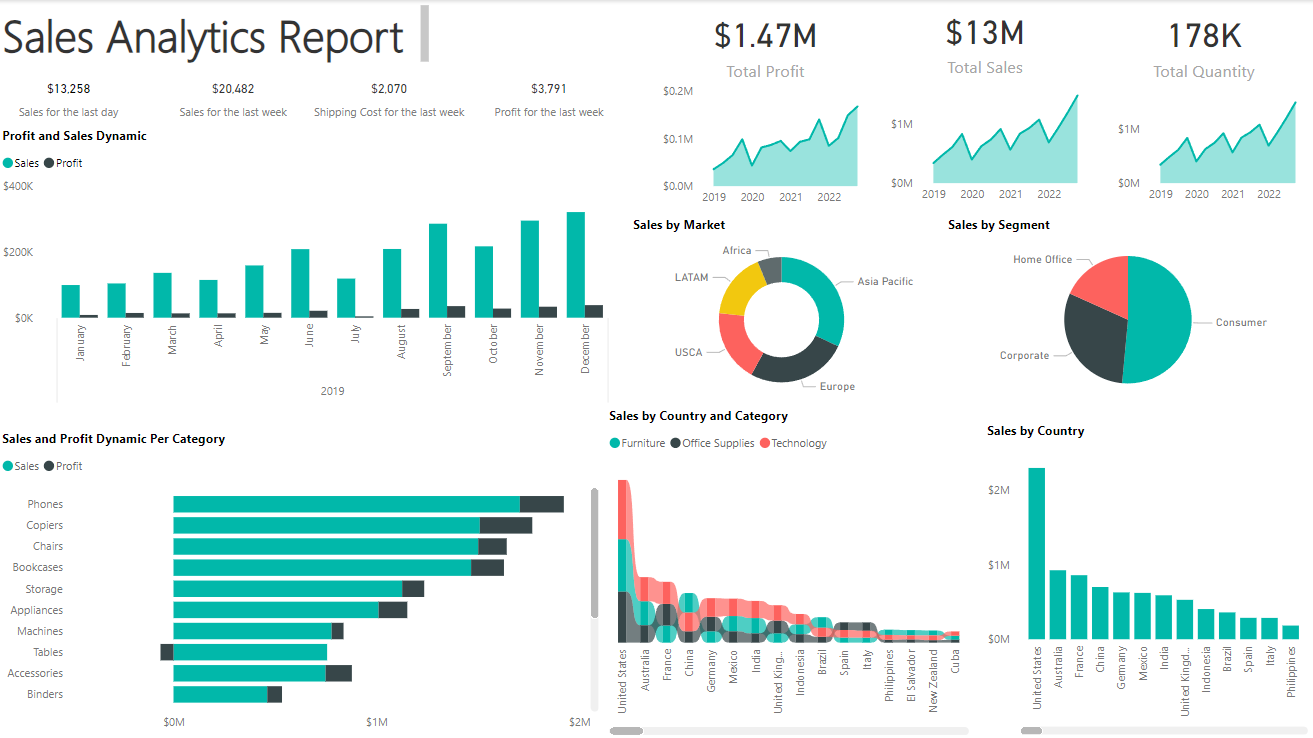

The dashboard page shown, as its layout file describes it:
{"tool":"powerbi","page":{"name":"Page 1","canvas":[1280,720],"ordinal":0},"visuals":[{"type":"clusteredColumnChart","title":"Profit and Sales Dynamic","fields":{"Y":["Sum(Orders.Sales)","Sum(Orders.Profit)"],"Category":["Orders.Order Date.Variation.Date Hierarchy.Year","Orders.Order Date.Variation.Date Hierarchy.Month"]},"box":[0,123.5,612.8,279.1],"z":0},{"type":"textbox","box":[0,0,425,66.1],"z":1000},{"type":"card","fields":{"Values":["Orders.Sales for last month"]},"box":[0,66.1,139.1,57.4],"z":2000},{"type":"card","fields":{"Values":["Orders.Sales for the last 7 days"]},"box":[156.6,66.1,145.9,57.4],"z":3000},{"type":"card","fields":{"Values":["Orders.Shipping Cost for the last week"]},"box":[302.5,66.1,157.6,57.4],"z":4000},{"type":"card","fields":{"Values":["Orders.Profit for the last week"]},"box":[460.1,66.1,153.7,57.4],"z":5000},{"type":"areaChart","title":"Sales by Year","fields":{"Category":["Orders.Order Date.Variation.Date Hierarchy.Year","Orders.Order Date.Variation.Date Hierarchy.Quarter","Orders.Order Date.Variation.Date Hierarchy.Month","Orders.Order Date.Variation.Date Hierarchy.Day"],"Y":["Sum(Orders.Sales)"]},"box":[863.7,77.8,204.3,129.4],"z":6000},{"type":"stackedAreaChart","title":"Profit by Year","fields":{"Y":["Sum(Orders.Profit)"],"Category":["Orders.Order Date.Variation.Date Hierarchy.Year","Orders.Order Date.Variation.Date Hierarchy.Quarter","Orders.Order Date.Variation.Date Hierarchy.Month","Orders.Order Date.Variation.Date Hierarchy.Day"]},"box":[641.9,74.9,212,135.2],"z":7000},{"type":"barChart","title":"Sales and Profit Dynamic Per Category","fields":{"Category":["Orders.Sub-Category"],"Y":["Sum(Orders.Sales)","Sum(Orders.Profit)"]},"box":[0,418.2,590.4,301.5],"z":8000},{"type":"ribbonChart","title":"Sales by Country and Category","fields":{"Category":["Orders.Country"],"Series":["Orders.Category"],"Y":["Sum(Orders.Sales)"]},"box":[590.4,395.9,359.9,323.9],"z":9000},{"type":"card","fields":{"Values":["Sum(Orders.Profit)"]},"box":[638.1,0,218.8,84.6],"z":10000},{"type":"card","fields":{"Values":["Sum(Orders.Sales)"]},"box":[854,0,214,77.8],"z":11000},{"type":"columnChart","title":"Sales by Country","fields":{"Y":["Sum(Orders.Sales)"],"Category":["Orders.Country"]},"box":[958.1,410.5,321.9,309.3],"z":12000},{"type":"pieChart","title":"Sales by Segment","fields":{"Y":["Sum(Orders.Sales)"],"Category":["Orders.Segment"]},"box":[920.1,210.1,359.9,185.8],"z":13000},{"type":"card","title":"Sales by Market","fields":{"Values":["Sum(Orders.Quantity)"]},"box":[1068,0,212,84.6],"z":14000},{"type":"donutChart","title":"Sales by Market","fields":{"Y":["Sum(Orders.Sales)"],"Category":["Orders.Market"]},"box":[613.7,210.1,298.6,185.8],"z":15000},{"type":"stackedAreaChart","fields":{"Y":["Sum(Orders.Sales)"],"Category":["Orders.Order Date.Variation.Date Hierarchy.Year","Orders.Order Date.Variation.Date Hierarchy.Quarter","Orders.Order Date.Variation.Date Hierarchy.Month","Orders.Order Date.Variation.Date Hierarchy.Day"]},"box":[1084.5,84.6,195.5,122.6],"z":16000}]}

Visuals, with their boxes in screenshot pixels (x1, y1, x2, y2), scaled from the page's 1280x720 canvas onto the 1313x738 screenshot:
"Profit and Sales Dynamic" clusteredColumnChart: <box>0,127,629,413</box>
textbox: <box>0,0,436,68</box>
card - Orders.Sales for last month: <box>0,68,143,127</box>
card - Orders.Sales for the last 7 days: <box>161,68,310,127</box>
card - Orders.Shipping Cost for the last week: <box>310,68,472,127</box>
card - Orders.Profit for the last week: <box>472,68,630,127</box>
"Sales by Year" areaChart: <box>886,80,1096,212</box>
"Profit by Year" stackedAreaChart: <box>658,77,876,215</box>
"Sales and Profit Dynamic Per Category" barChart: <box>0,429,606,737</box>
"Sales by Country and Category" ribbonChart: <box>606,406,975,737</box>
card - Sum(Orders.Profit): <box>655,0,879,87</box>
card - Sum(Orders.Sales): <box>876,0,1096,80</box>
"Sales by Country" columnChart: <box>983,421,1312,737</box>
"Sales by Segment" pieChart: <box>944,215,1312,406</box>
"Sales by Market" card: <box>1096,0,1312,87</box>
"Sales by Market" donutChart: <box>630,215,936,406</box>
stackedAreaChart - Sum(Orders.Sales) x Orders.Order Date.Variation.Date Hierarchy.Year: <box>1112,87,1312,212</box>
